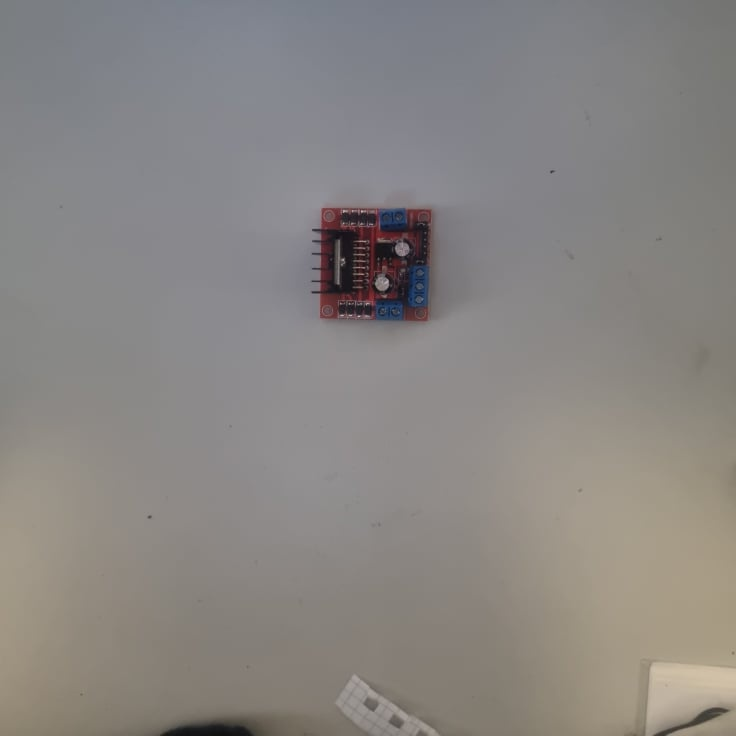MOTOR: (311, 206, 431, 327)
